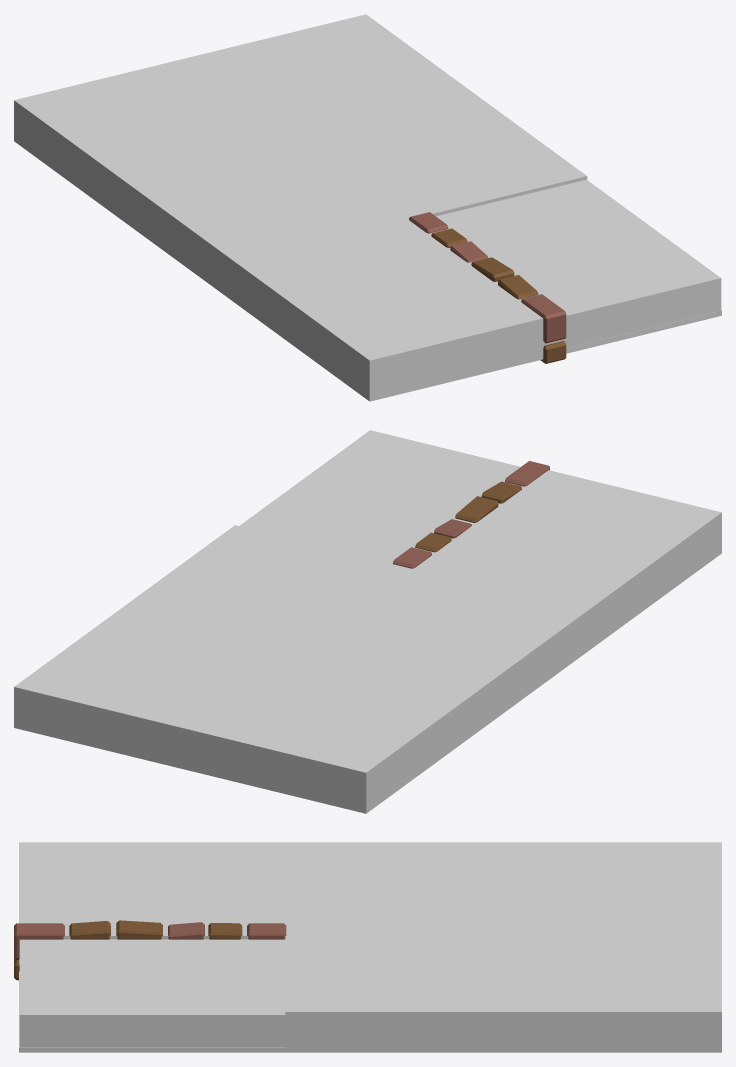
3 renders of one model, top to bottom at view 1: azimuth 30°, elevation 25°; view 2: azimuth 150°, elevation 25°; view 3: azimuth 270°, elevation 25°, orthographic.
Visible parts, largest first — view 1: Plane.007, Plane.010, Cube.053, Cube.056, Cube.055; view 2: Plane.007, Plane.010, Cube.056, Cube.053; view 3: Plane.007, Plane.010, Cube.053, Cube.056, Cube.055, Cube.059, Cube.057, Cube.058.
Part boxes in pixels (x1,y1,x2,y2): Plane.007: (14,14,721,401); Plane.010: (436,179,721,348); Cube.053: (521,294,566,343); Cube.056: (471,257,514,281); Cube.055: (498,275,538,299); Plane.007: (14,470,721,813); Plane.010: (239,430,520,563); Cube.056: (455,496,498,522); Cube.053: (505,461,549,486); Plane.007: (19,842,721,1052); Plane.010: (19,939,285,1047); Cube.053: (14,923,64,959); Cube.056: (116,920,162,939); Cube.055: (69,921,110,939); Cube.059: (247,923,286,939); Cube.057: (168,922,204,939); Cube.058: (208,923,242,939).
Bounding box in the file's own units: 1978 × 275 × 3487.
